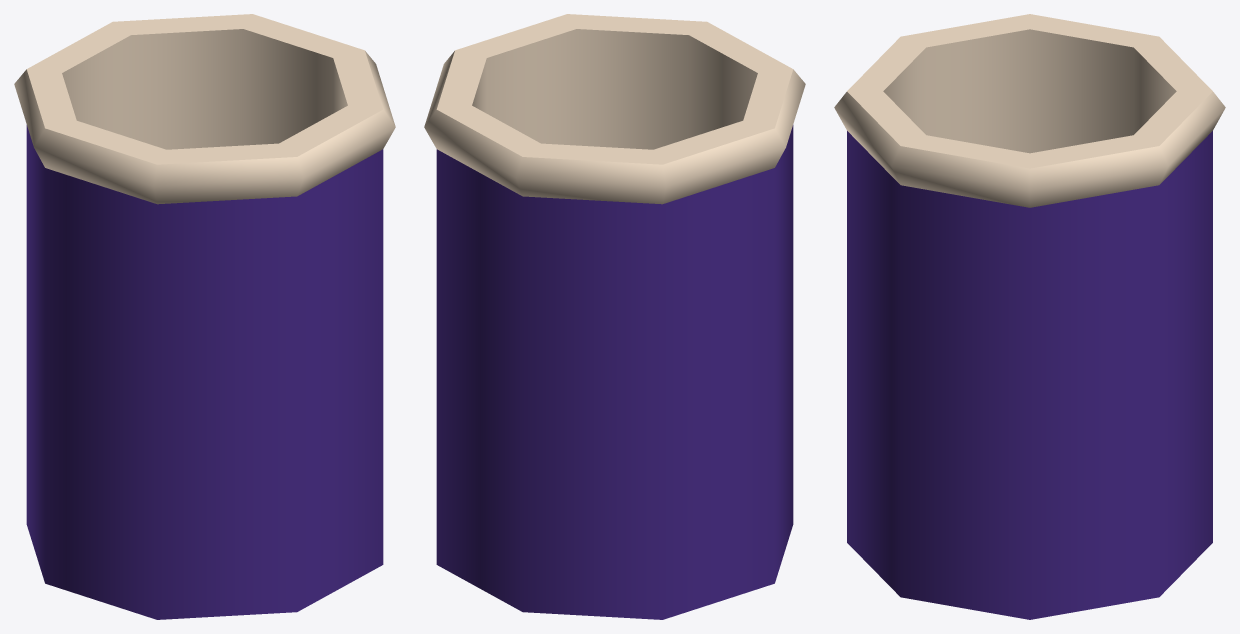
The model's file is pencilcase_empty.fbx.
3 views of the same model, side by side, from view 1: azimuth 30°, elevation 25°; view 2: azimuth 150°, elevation 25°; view 3: azimuth 270°, elevation 25° (orthographic).
Visible parts, largest first — view 1: pencilcase_empty; view 2: pencilcase_empty; view 3: pencilcase_empty.
Part boxes in pixels (x1,y1,x2,y2): pencilcase_empty: [14, 14, 395, 619]; pencilcase_empty: [424, 14, 805, 619]; pencilcase_empty: [834, 14, 1225, 619].
Bounding box in the file's own units: 7.83 × 9.96 × 7.83.
